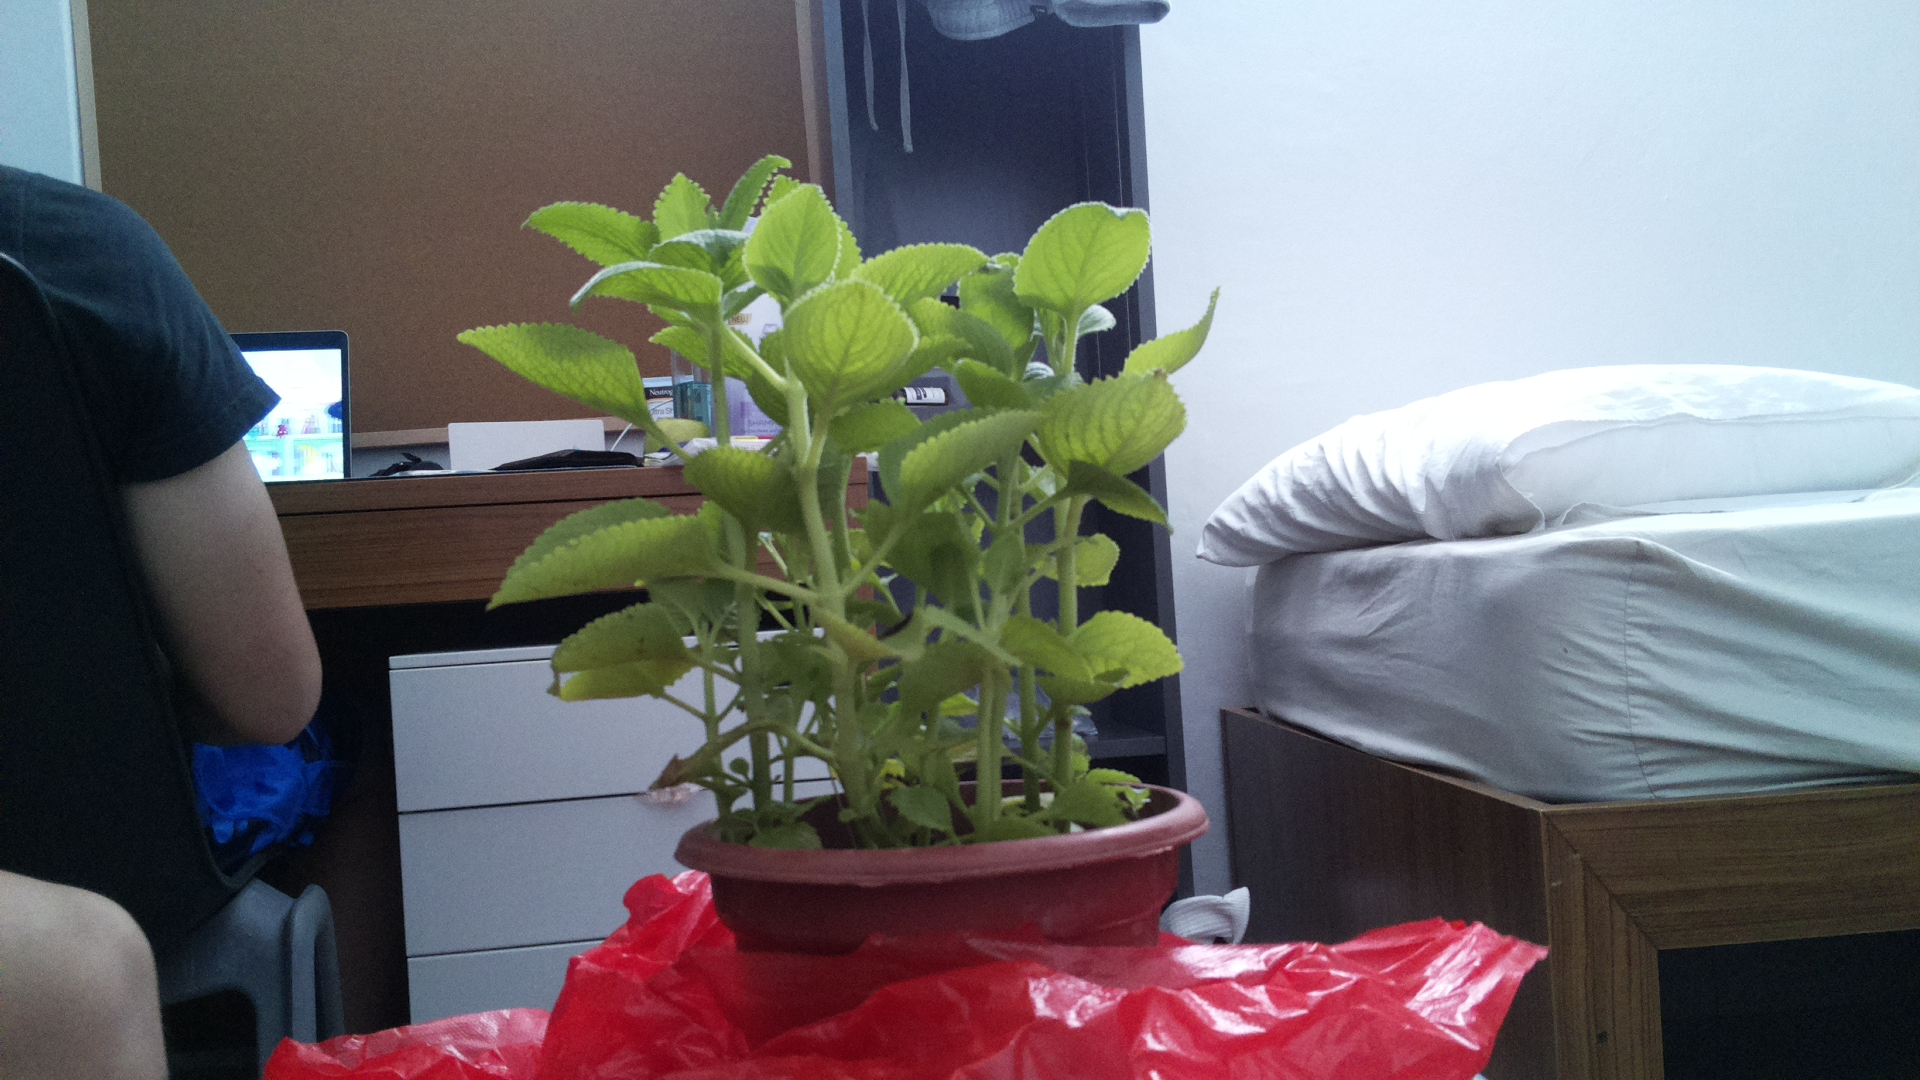leaf: (475, 495, 728, 633), (463, 313, 657, 446), (893, 393, 1060, 537), (1025, 371, 1191, 502), (1017, 193, 1160, 330), (793, 280, 916, 421), (671, 440, 812, 545), (541, 611, 692, 705), (980, 593, 1098, 694), (745, 183, 840, 303), (520, 203, 667, 276), (641, 154, 732, 255), (576, 249, 735, 303)
